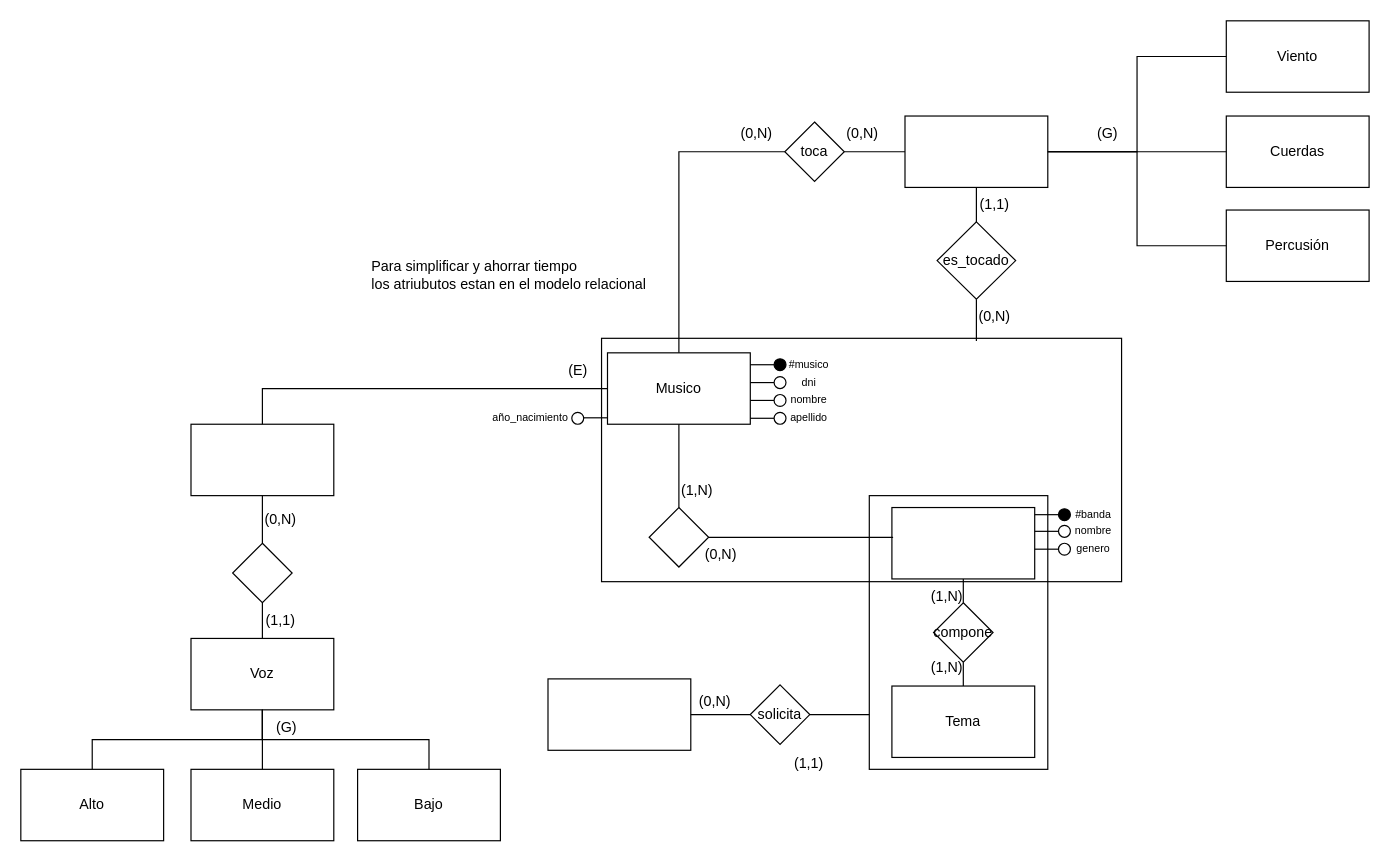
The diagram is 1390 pixels wide and 862 high, and some of its shapes have lost their labels. The shapes that lost their labels are listed below. From the top down, each one's centre as x and y in pixels, then its label:
At (x=976, y=151): "Instrumento".
At (x=262, y=459): "Cantante".
At (x=678, y=536): "integran".
At (x=963, y=542): "Banda".
At (x=261, y=572): "posee".
At (x=619, y=714): "Grabacion".
